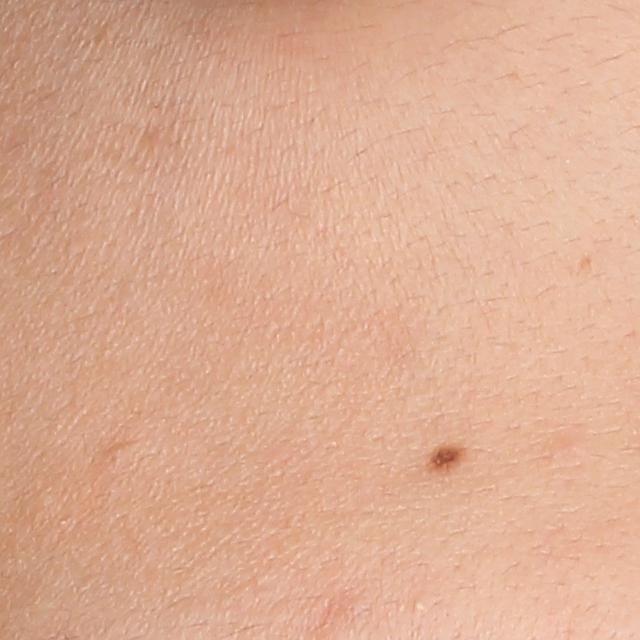comedo: (104, 441, 133, 470), (409, 596, 428, 614)
nevus: (423, 441, 469, 471)
